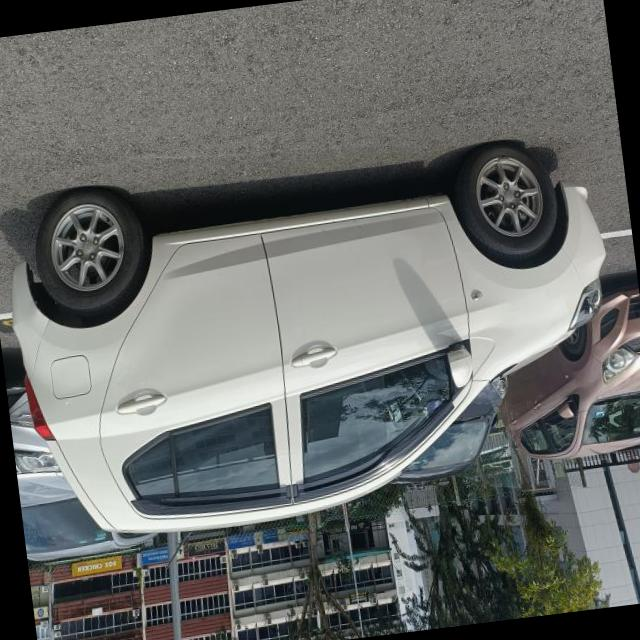PeroduaAxia: (0, 124, 633, 553)
